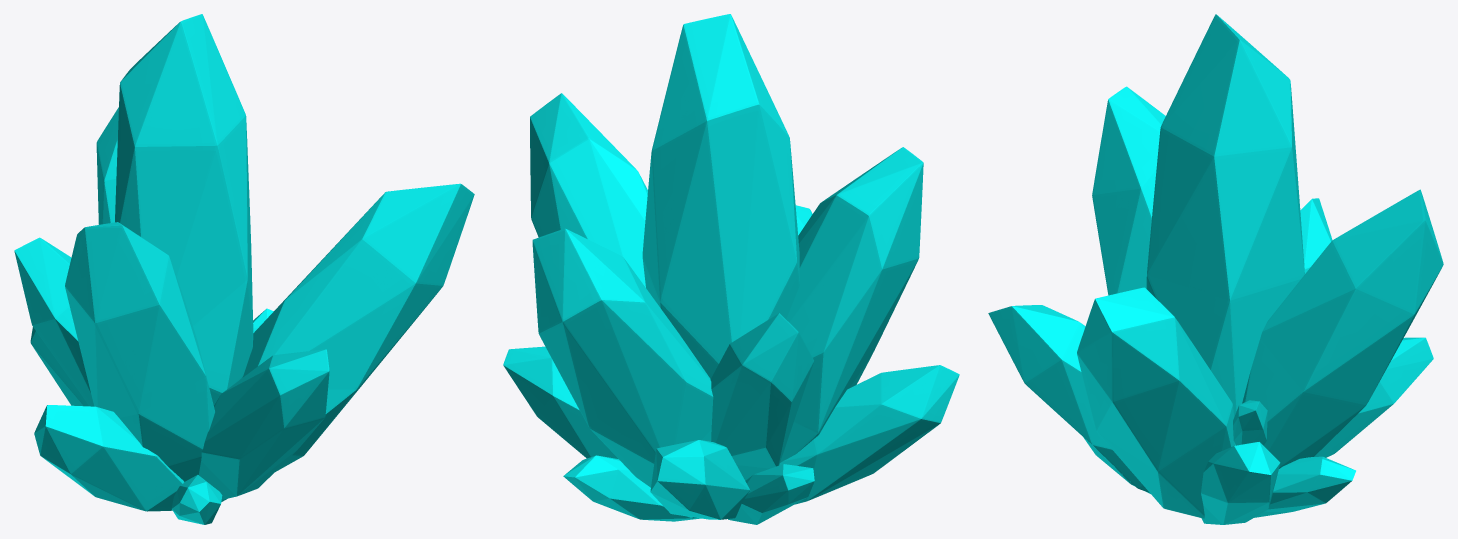
File: trapcrystal.fbx
The picture shows the model from 3 angles, left to right: view 1: azimuth 30°, elevation 25°; view 2: azimuth 150°, elevation 25°; view 3: azimuth 270°, elevation 25°; orthographic projection. The views are drawn at different scales.
Parts seen in each view (by area): view 1: Icosphere, Icosphere.001, Icosphere.007, Icosphere.004, Icosphere.002, Icosphere.006, Icosphere.005, Icosphere.011, Icosphere.008; view 2: Icosphere, Icosphere.005, Icosphere.007, Icosphere.001, Icosphere.002, Icosphere.006, Icosphere.008, Icosphere.003, Icosphere.009, Icosphere.010; view 3: Icosphere, Icosphere.005, Icosphere.001, Icosphere.007, Icosphere.004, Icosphere.003, Icosphere.009, Icosphere.008, Icosphere.006, Icosphere.012.
Boxes of the visible parts, x1=… form: Icosphere: x1=115, y1=14, x2=253, y2=405; Icosphere.001: x1=221, y1=183, x2=474, y2=501; Icosphere.007: x1=65, y1=222, x2=214, y2=481; Icosphere.004: x1=198, y1=349, x2=329, y2=499; Icosphere.002: x1=34, y1=405, x2=183, y2=511; Icosphere.006: x1=14, y1=237, x2=94, y2=406; Icosphere.005: x1=96, y1=107, x2=118, y2=224; Icosphere.011: x1=171, y1=475, x2=222, y2=524; Icosphere.008: x1=30, y1=327, x2=89, y2=406; Icosphere: x1=642, y1=14, x2=799, y2=378; Icosphere.005: x1=532, y1=228, x2=713, y2=487; Icosphere.007: x1=745, y1=147, x2=923, y2=480; Icosphere.001: x1=530, y1=93, x2=647, y2=287; Icosphere.002: x1=779, y1=365, x2=959, y2=504; Icosphere.006: x1=710, y1=313, x2=813, y2=480; Icosphere.008: x1=650, y1=440, x2=749, y2=519; Icosphere.003: x1=503, y1=346, x2=617, y2=458; Icosphere.009: x1=563, y1=455, x2=700, y2=521; Icosphere.010: x1=728, y1=464, x2=814, y2=524; Icosphere: x1=1146, y1=14, x2=1304, y2=416; Icosphere.005: x1=1242, y1=189, x2=1443, y2=468; Icosphere.001: x1=1077, y1=287, x2=1235, y2=518; Icosphere.007: x1=1092, y1=86, x2=1165, y2=295; Icosphere.004: x1=988, y1=305, x2=1149, y2=492; Icosphere.003: x1=1201, y1=442, x2=1280, y2=524; Icosphere.009: x1=1254, y1=456, x2=1355, y2=517; Icosphere.008: x1=1314, y1=337, x2=1433, y2=457; Icosphere.006: x1=1300, y1=198, x2=1332, y2=273; Icosphere.012: x1=1233, y1=400, x2=1267, y2=445.
Size of what is drawn, in the model's own units: 303 by 335 by 280.
